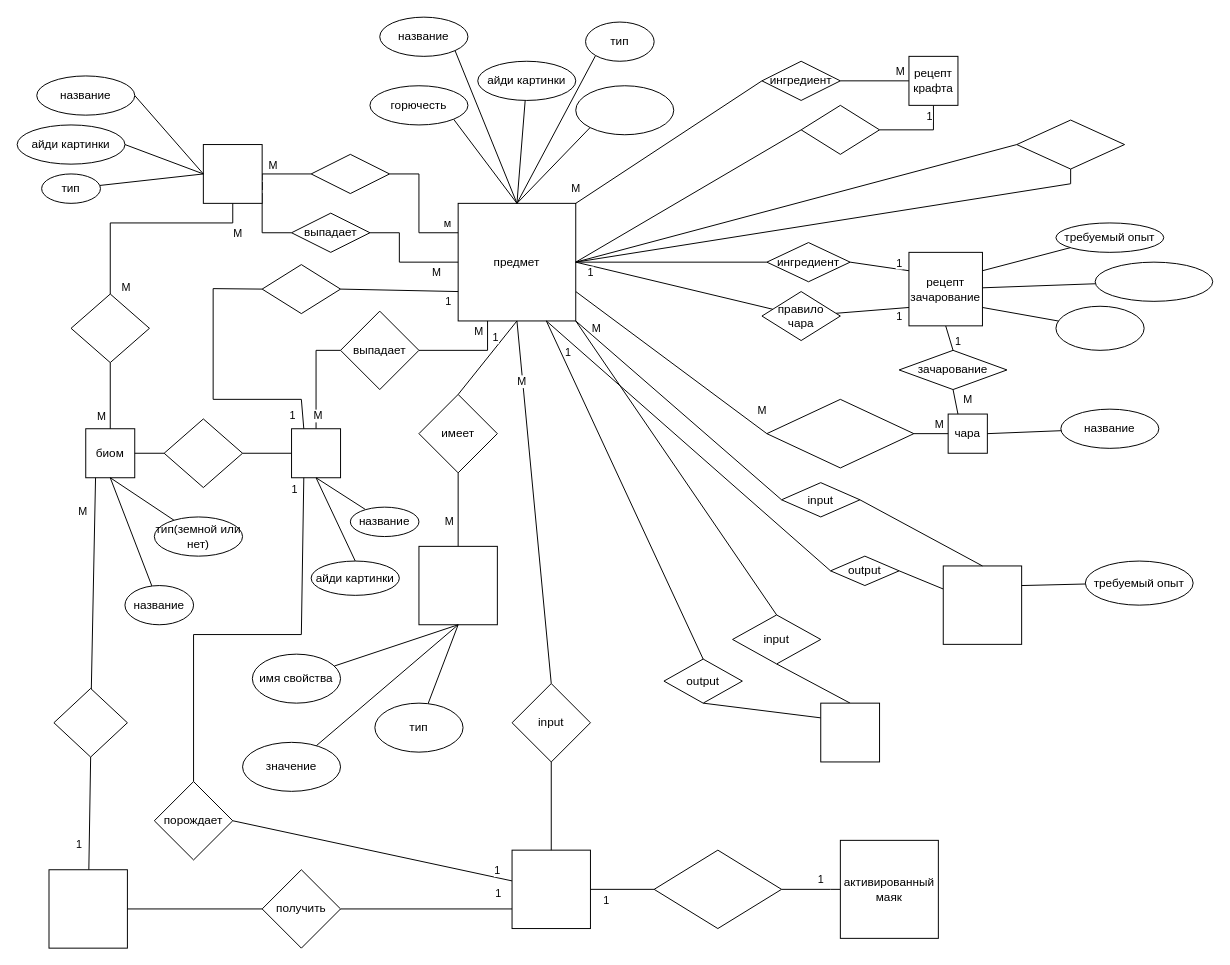
Image size: 1230x965. Some labels were removed from this diagram. Each missing label, with the box of its shape:
блок: (202, 144, 262, 203)
возможность поставить: (575, 85, 674, 135)
встречается: (163, 418, 243, 488)
количество книжных полок: (1094, 261, 1213, 301)
ломается: (310, 153, 390, 194)
моб: (291, 428, 341, 478)
переход: (53, 687, 127, 757)
портал: (48, 869, 127, 948)
правило выпекания: (1016, 119, 1125, 169)
правило крафта: (800, 104, 880, 154)
применимость к предмету: (766, 398, 914, 468)
рецепт зелья: (820, 702, 880, 762)
рецепт ковки: (942, 565, 1022, 644)
ритуал: (511, 849, 590, 929)
свойства: (418, 545, 497, 625)
собирается: (261, 264, 341, 314)
содержит: (70, 293, 149, 363)
уровень чары: (1055, 305, 1144, 350)
